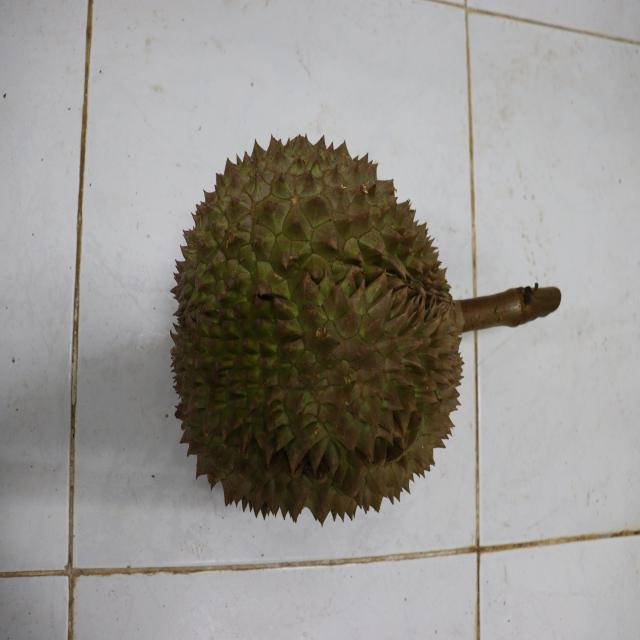mature: (170, 134, 466, 528)
